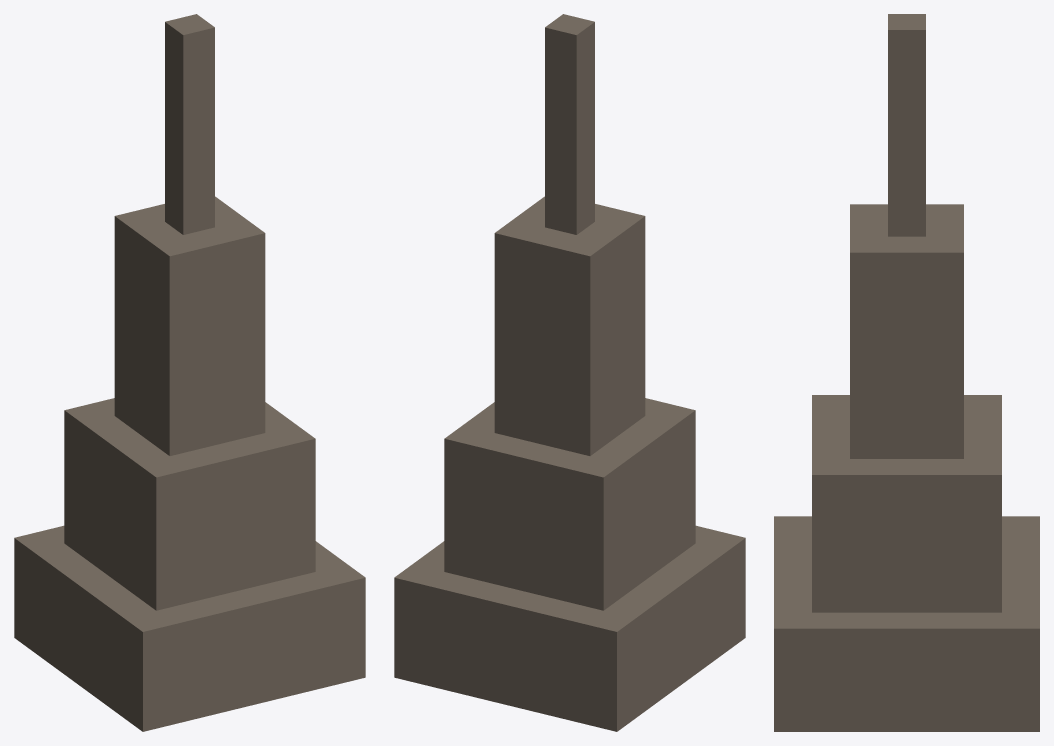
Rendered from spike 2.obj.
The picture shows the model from 3 angles, left to right: view 1: azimuth 30°, elevation 25°; view 2: azimuth 150°, elevation 25°; view 3: azimuth 270°, elevation 25°; orthographic projection. The views are drawn at different scales.
Bounding box in the file's own units: 0.7 × 1.9 × 0.7.
Materials: 1 (1 with a texture image).
